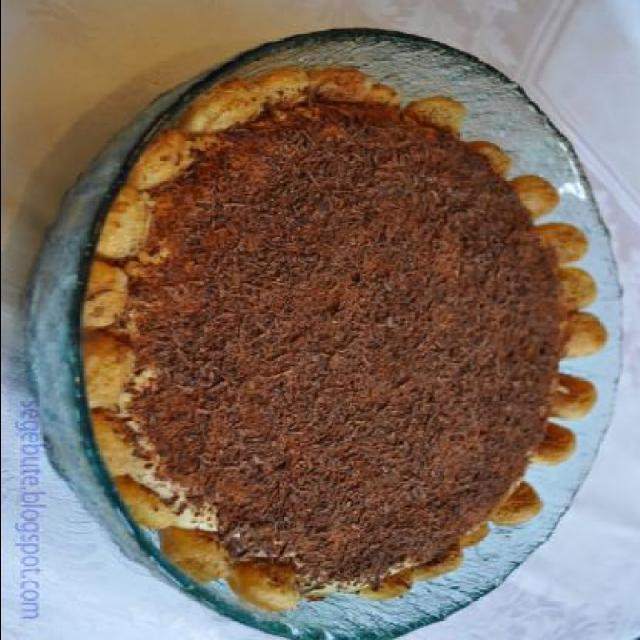Tiramisu: (85, 66, 603, 592)
